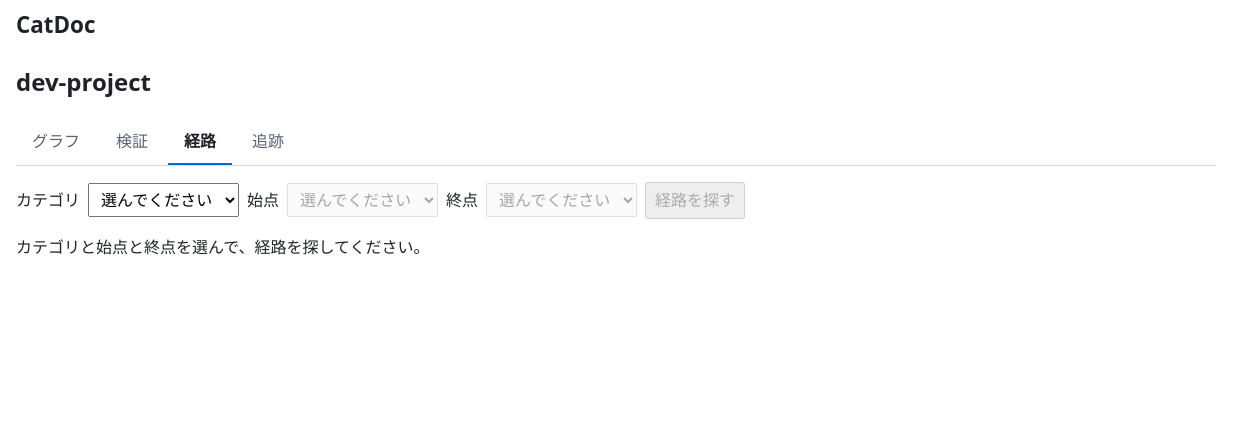
it: PathsView › カテゴリと始点と終点を選んで探すと、最短経路と全経路を文書の名前で出す
Step 1. Select "Infrastructure" in the dropdown labelled "カテゴリ" → (164, 200), box [88,183,239,217]
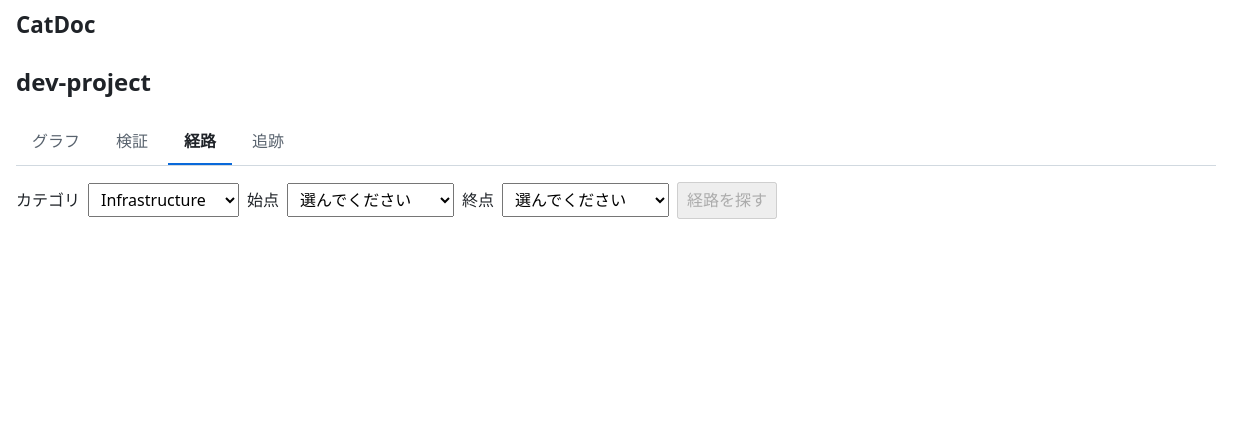
Step 2. Select "認証サービス" in the dropdown labelled "始点" → (370, 200), box [287,183,454,217]
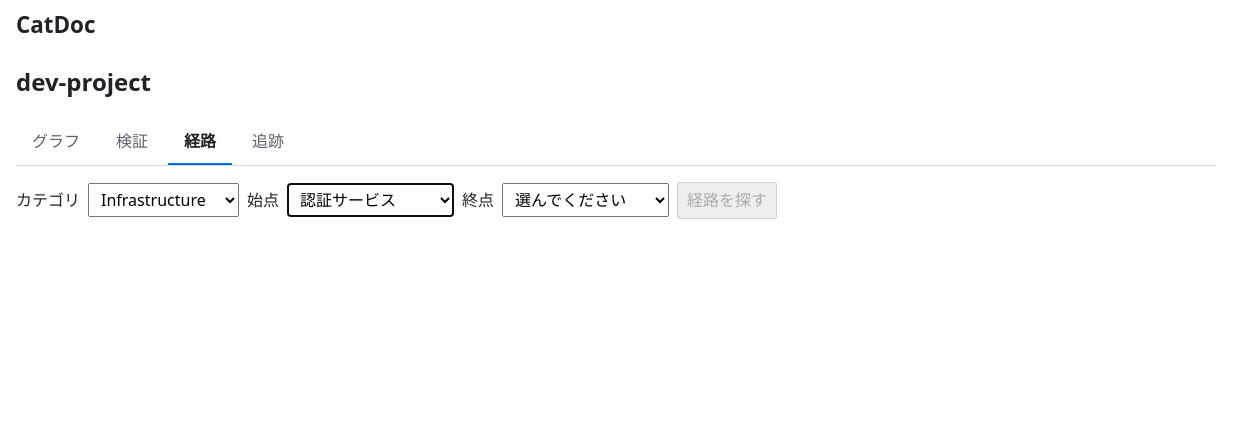
Step 3. Select "データベース" in the dropdown labelled "終点" → (586, 200), box [502,183,669,217]
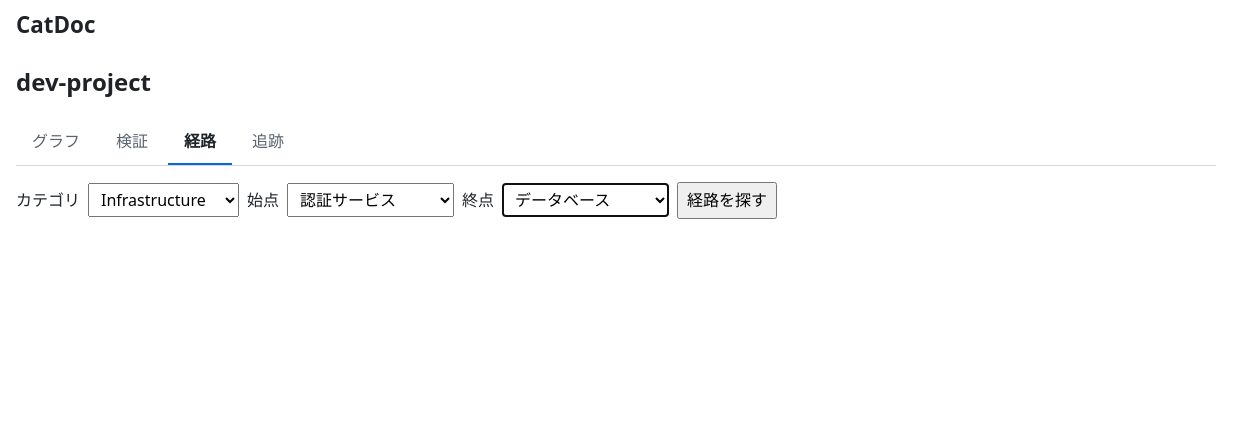
Step 4. Click the button "経路を探す" → (727, 200), box [677,182,777,219]
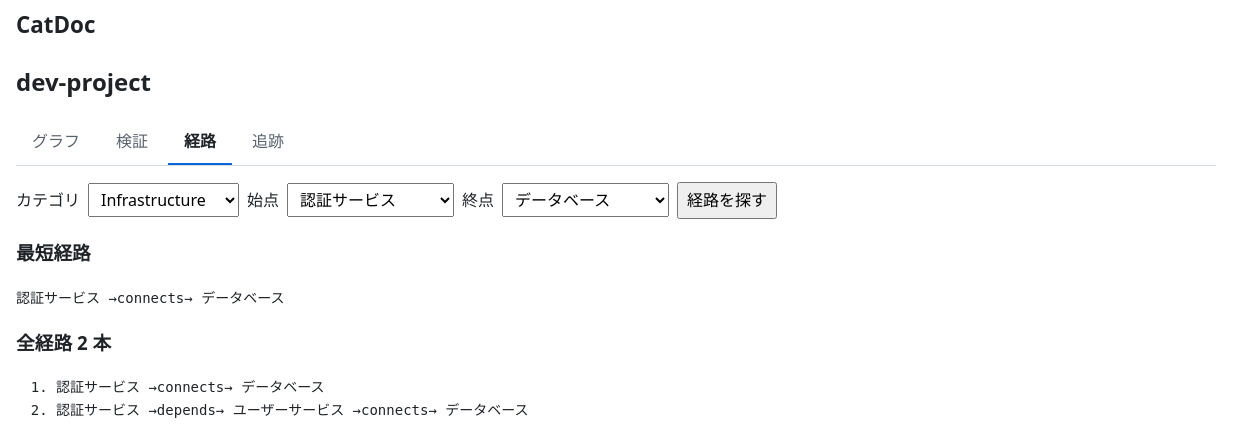
Expected: the element "最短経路" shows "認証サービス →connects→ データベース", [16,290,284,306]
Expected: the list items read "認証サービス →connects→ データベース", "認証サービス →depends→ ユーザーサービス →connects→ データベース", in this order, [56,379,324,395]; [56,402,529,418]
